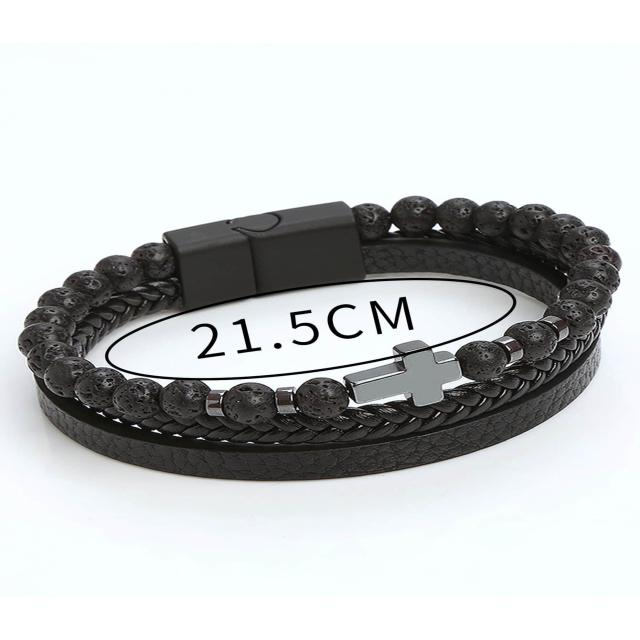bracelet: (22, 164, 640, 541)
